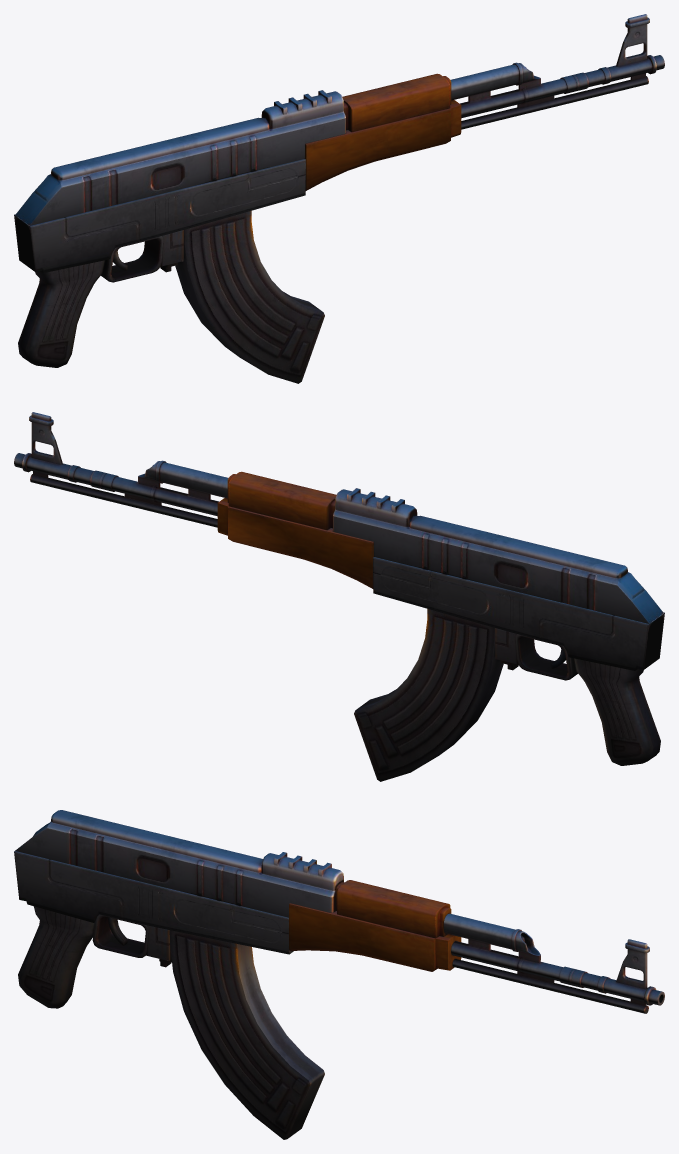
Rendered from bunker47-gun-ak47variant.glb.
3 renders of one model, top to bottom at view 1: azimuth 30°, elevation 25°; view 2: azimuth 150°, elevation 25°; view 3: azimuth 330°, elevation 25°, orthographic.
Parts seen in each view (by area): view 1: ak47variant, akmagazine_low.001; view 2: ak47variant, akmagazine_low.001; view 3: ak47variant, akmagazine_low.001.
Part boxes in pixels (x1,y1,x2,y2): ak47variant: (14, 14, 664, 367); akmagazine_low.001: (175, 210, 324, 383); ak47variant: (14, 412, 664, 765); akmagazine_low.001: (354, 608, 503, 781); ak47variant: (14, 810, 664, 1013); akmagazine_low.001: (169, 930, 324, 1139).
Bounding box in the file's own units: 0.5438 × 0.2256 × 0.0253.
Materials: 1 (1 with a texture image).
